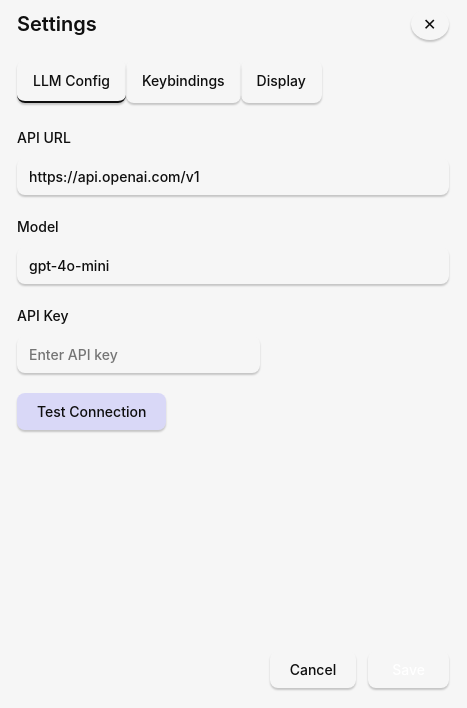
Scenario: SettingsPanel › Keybindings Tab › displays keyboard keys in kbd elements
Click the tab with test id "tab-keybindings".
click(183, 82)  # box [126,60,241,103]
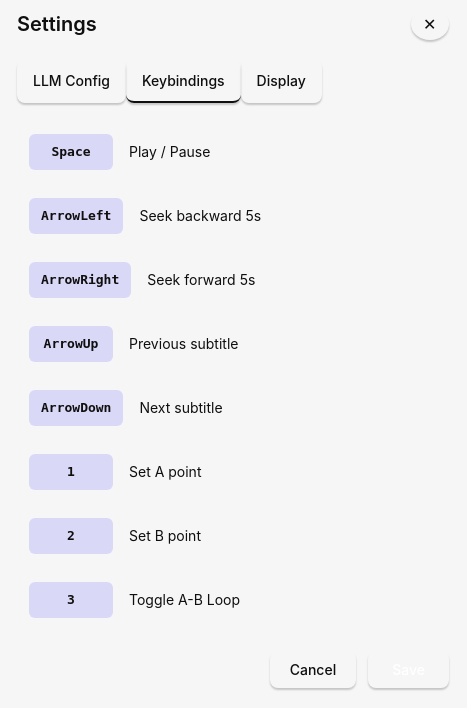
Now the text "Space" is shown, box [29,134,113,170]
